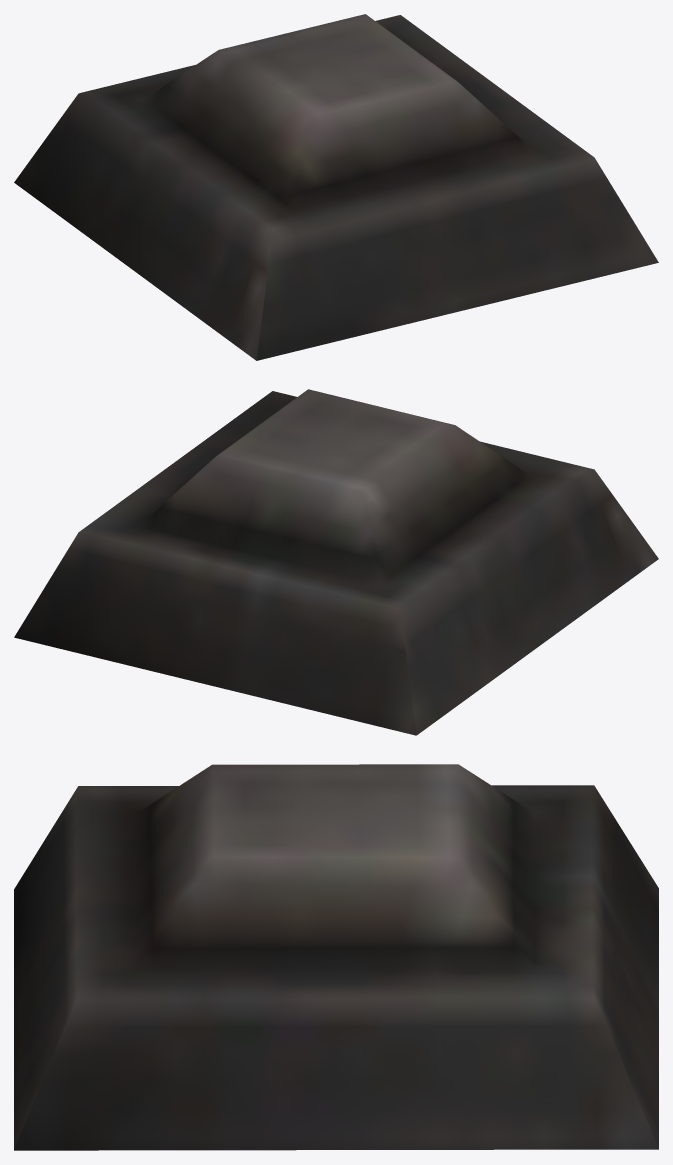
Rendered from computer_parts_lamp.dae.
3 views of the same model, one above another, from view 1: azimuth 30°, elevation 25°; view 2: azimuth 150°, elevation 25°; view 3: azimuth 270°, elevation 25° (orthographic). The views are drawn at different scales.
Parts seen in each view (by area): view 1: computer_parts_lamp; view 2: computer_parts_lamp; view 3: computer_parts_lamp.
Boxes of the visible parts, bbox=[...] form: computer_parts_lamp: bbox=[14, 14, 658, 360]; computer_parts_lamp: bbox=[14, 389, 658, 735]; computer_parts_lamp: bbox=[14, 764, 658, 1150].
Size of the model in its own units: 0.0724 by 0.027 by 0.0756.
